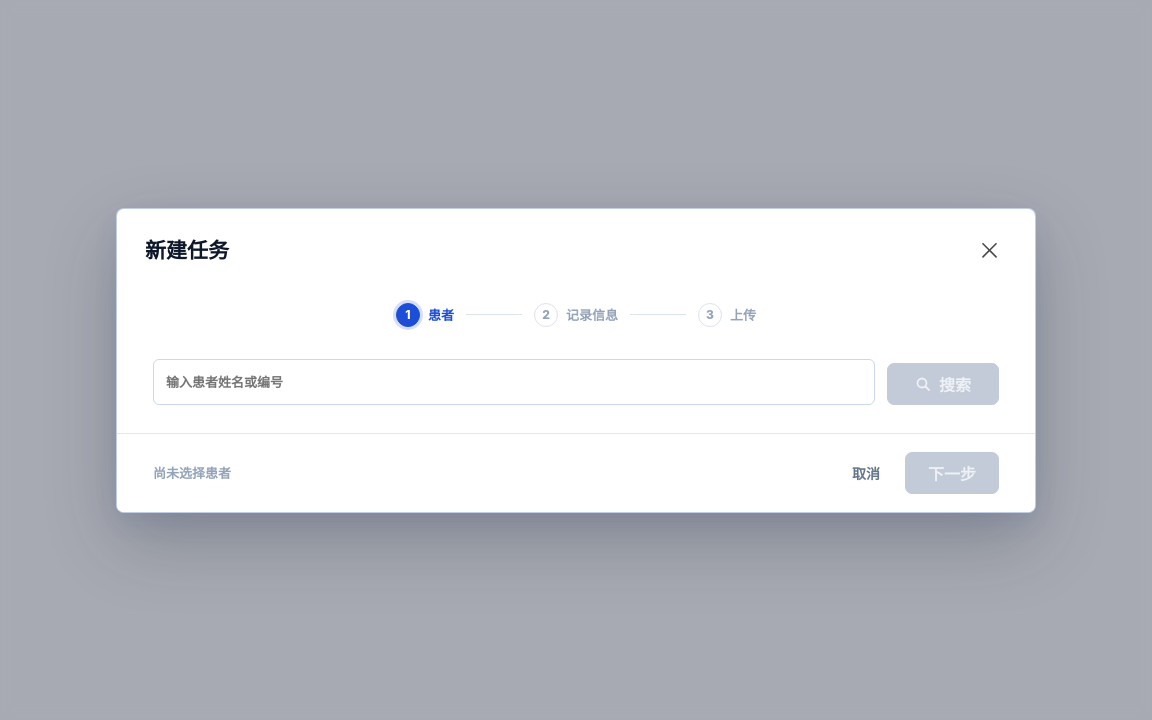
it: CreateTaskDialog › 精确同名时仅在点击"仍然新建"后才创建患者
Step 1. Type "测试用例" into the field labelled "患者姓名" → (514, 382), box 153,358 -> 875,404
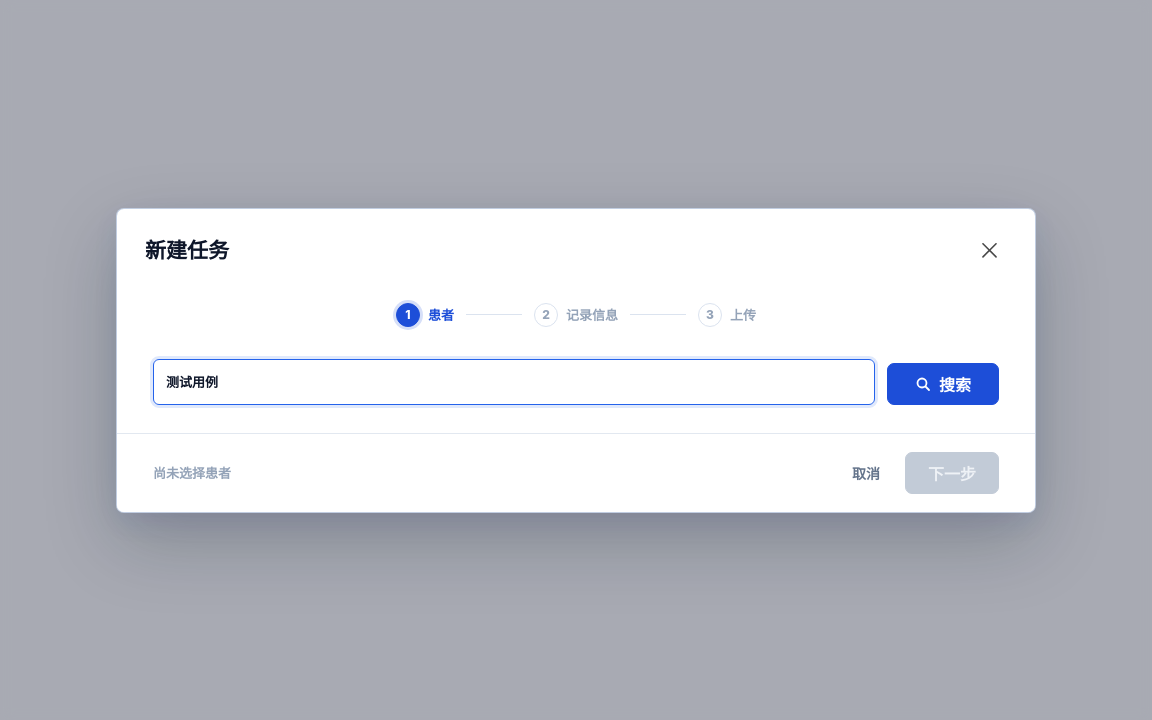
Step 2. Click the button with aria-label "搜索患者" → (943, 384), box 887,362 -> 999,404
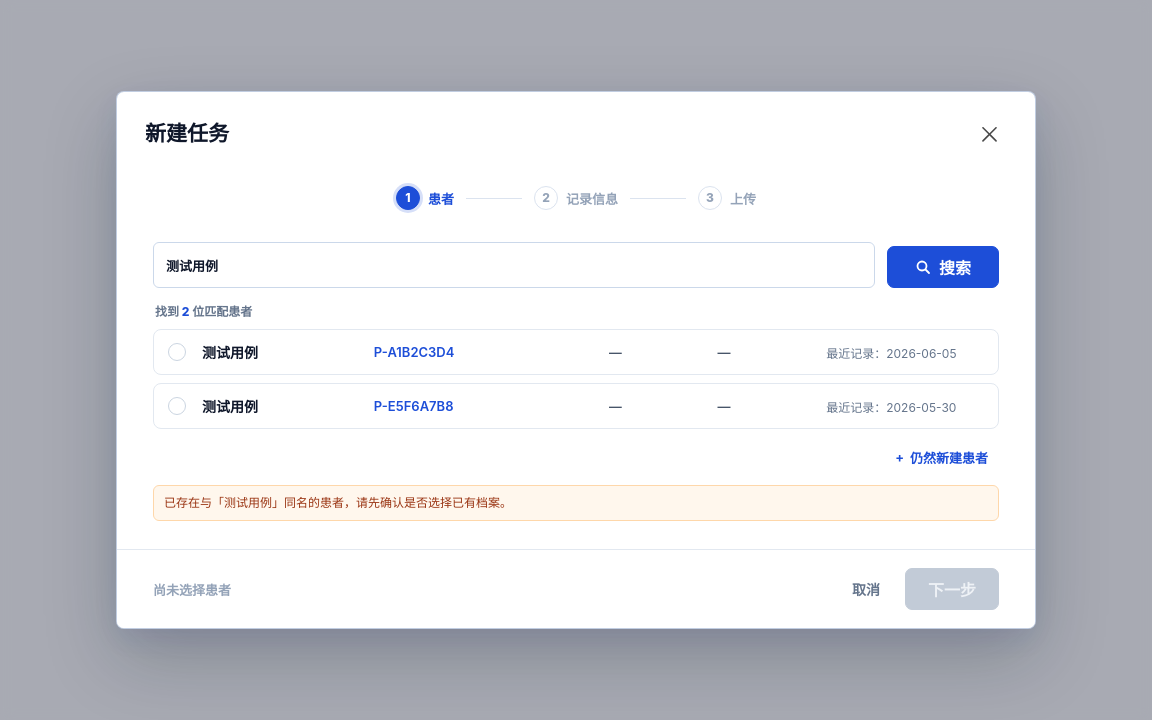
Now the text "P-A1B2C3D4" is shown, box 374,344 -> 454,360
Now the text "P-E5F6A7B8" is shown, box 374,398 -> 454,414
Step 3. Click the button "+ 仍然新建患者" → (942, 457), box 884,441 -> 999,473
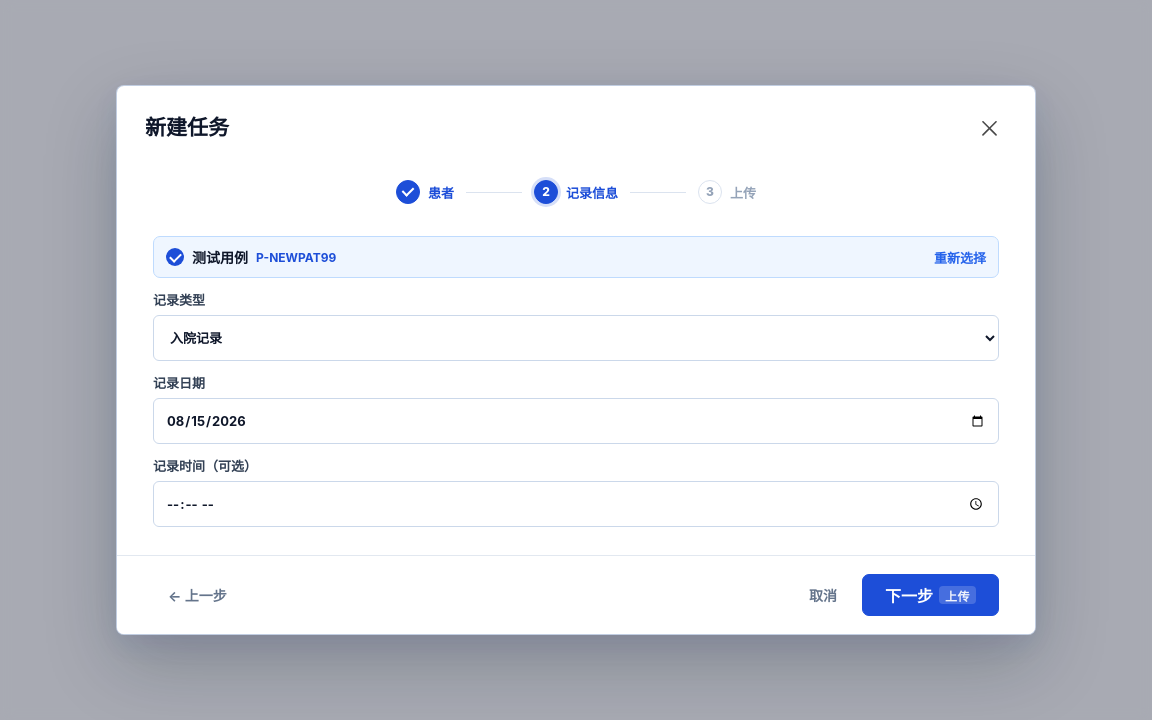
Now the text "P-NEWPAT99" is shown, box 256,250 -> 336,264
